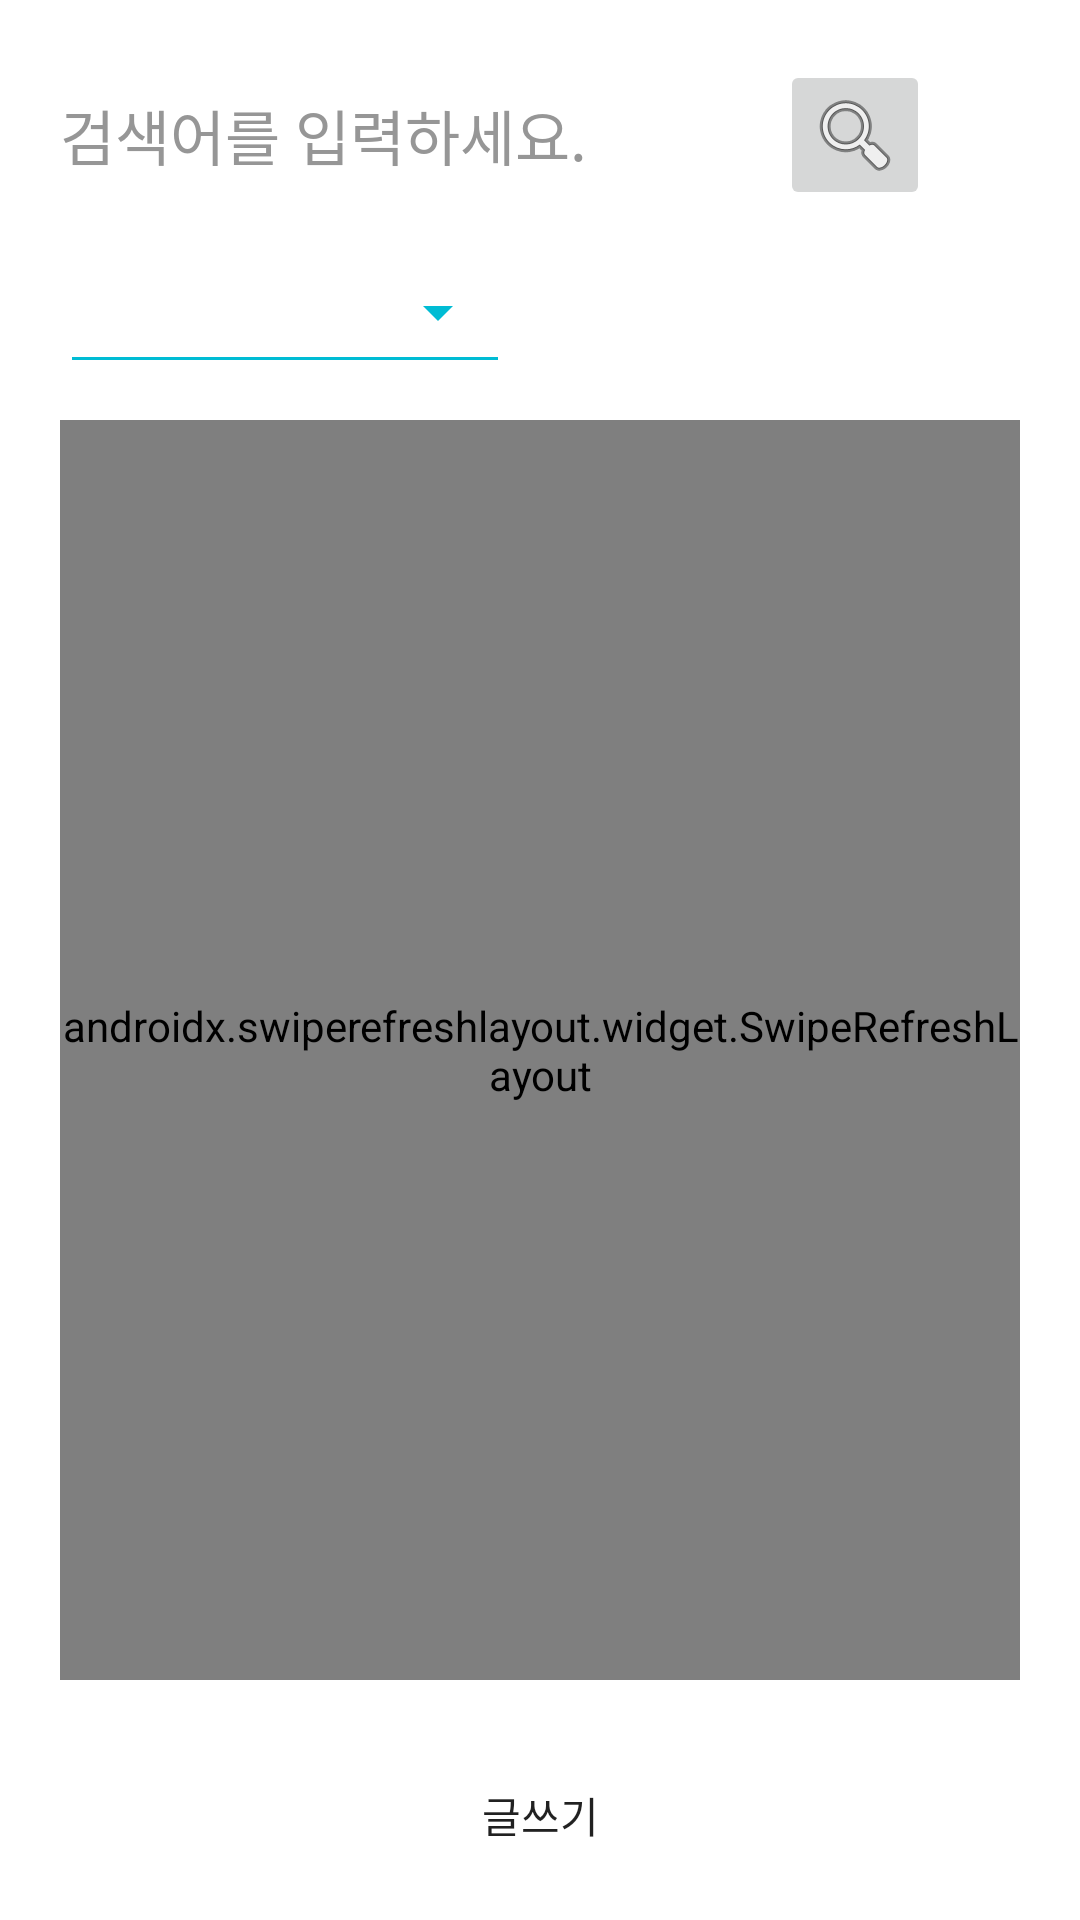

Named icons in this screenshot (1080×1920) and their centers, (x=x, y=y):
키워드 찾기: (x=855, y=135)
